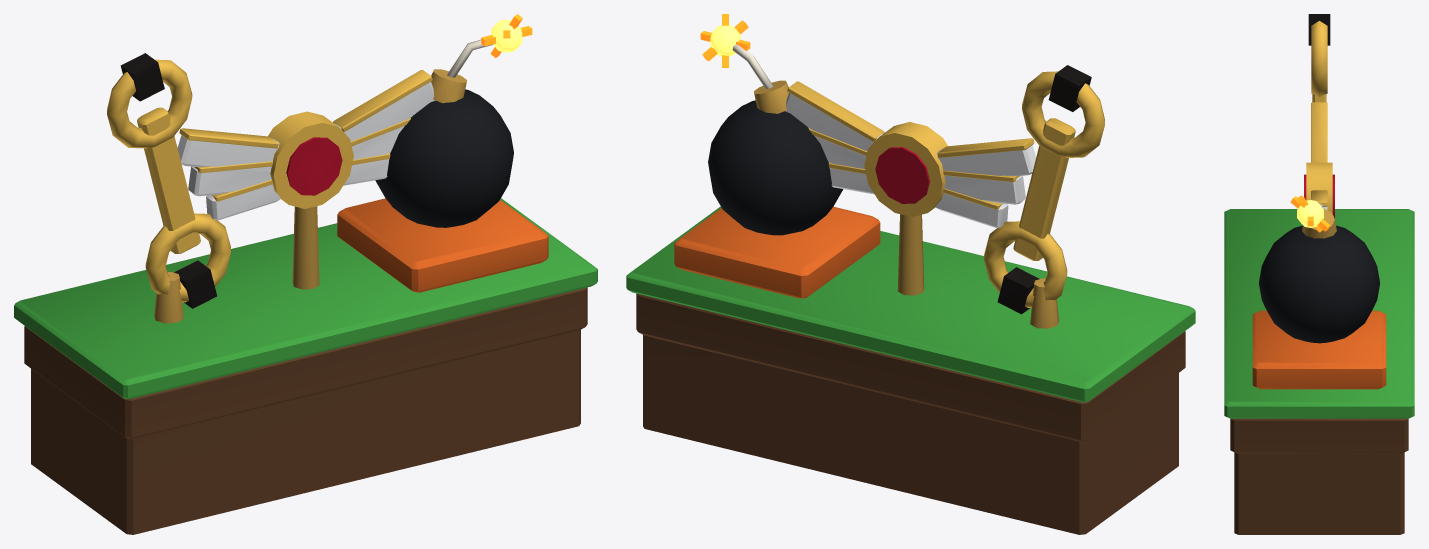
The model's file is prop_oilbert_icons.glb.
3 views of the same model, side by side, from view 1: azimuth 30°, elevation 25°; view 2: azimuth 150°, elevation 25°; view 3: azimuth 270°, elevation 25° (orthographic). The views are drawn at different scales.
Parts seen in each view (by area): view 1: body; view 2: body; view 3: body.
Boxes of the visible parts, bbox=[...] form: body: bbox=[14, 14, 597, 534]; body: bbox=[626, 14, 1195, 534]; body: bbox=[1224, 14, 1414, 534].
Size of the model in its own units: 7.8 by 6.65 by 3.2.
